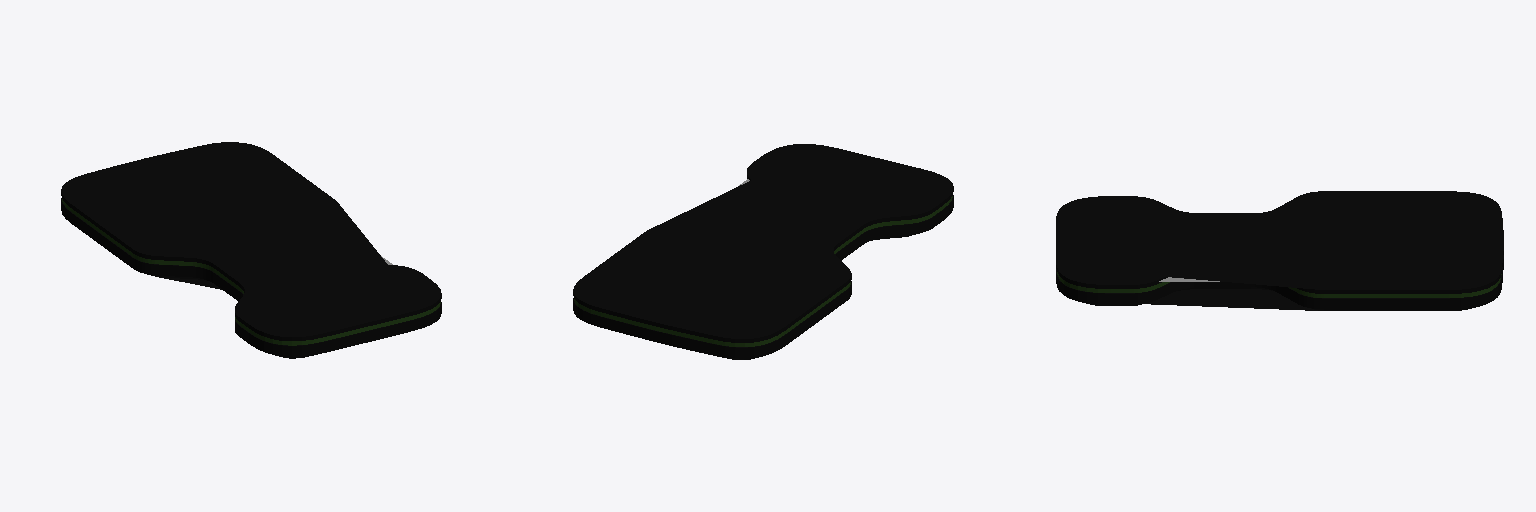
File: nhan.obj
3 views of the same model, side by side, from view 1: azimuth 30°, elevation 25°; view 2: azimuth 150°, elevation 25°; view 3: azimuth 270°, elevation 25° (orthographic).
Parts seen in each view (by area): view 1: Box001; view 2: Box001; view 3: Box001.
Boxes of the visible parts, <box> form: Box001: <box>61,142,441,358</box>; Box001: <box>573,144,953,359</box>; Box001: <box>1056,191,1503,310</box>.
Size of the model in its own units: 86.39 by 12.57 by 166.